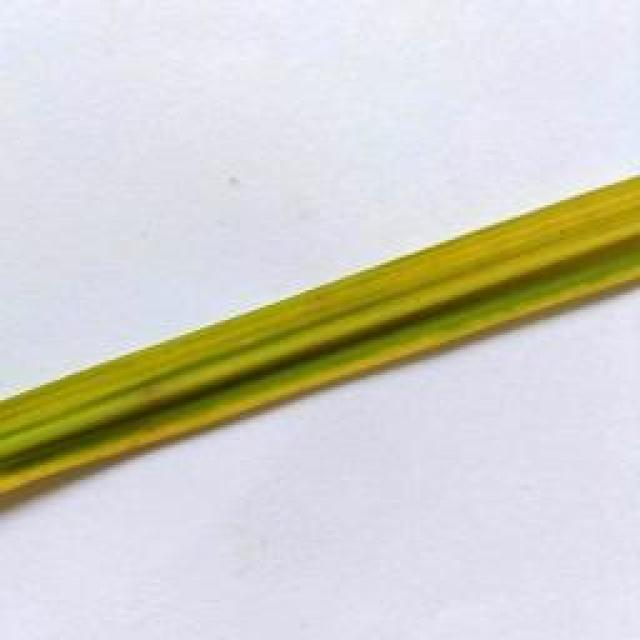Healthy-Plant: (0, 174, 640, 499)
